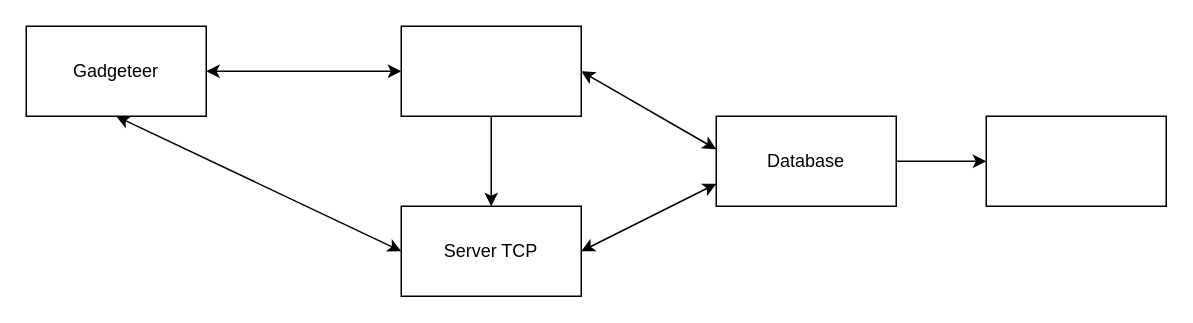
Some shapes in this 1193 by 323 pixel diagram are drawn without their labels. Each missing label, with the centre of its shape:
Web Client: the point at 1075,160
Web Service: the point at 490,70
